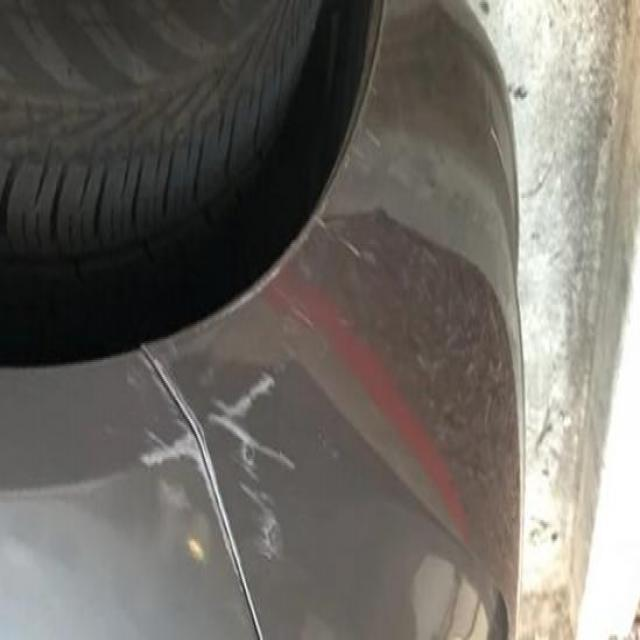scratch: (113, 340, 313, 580)
